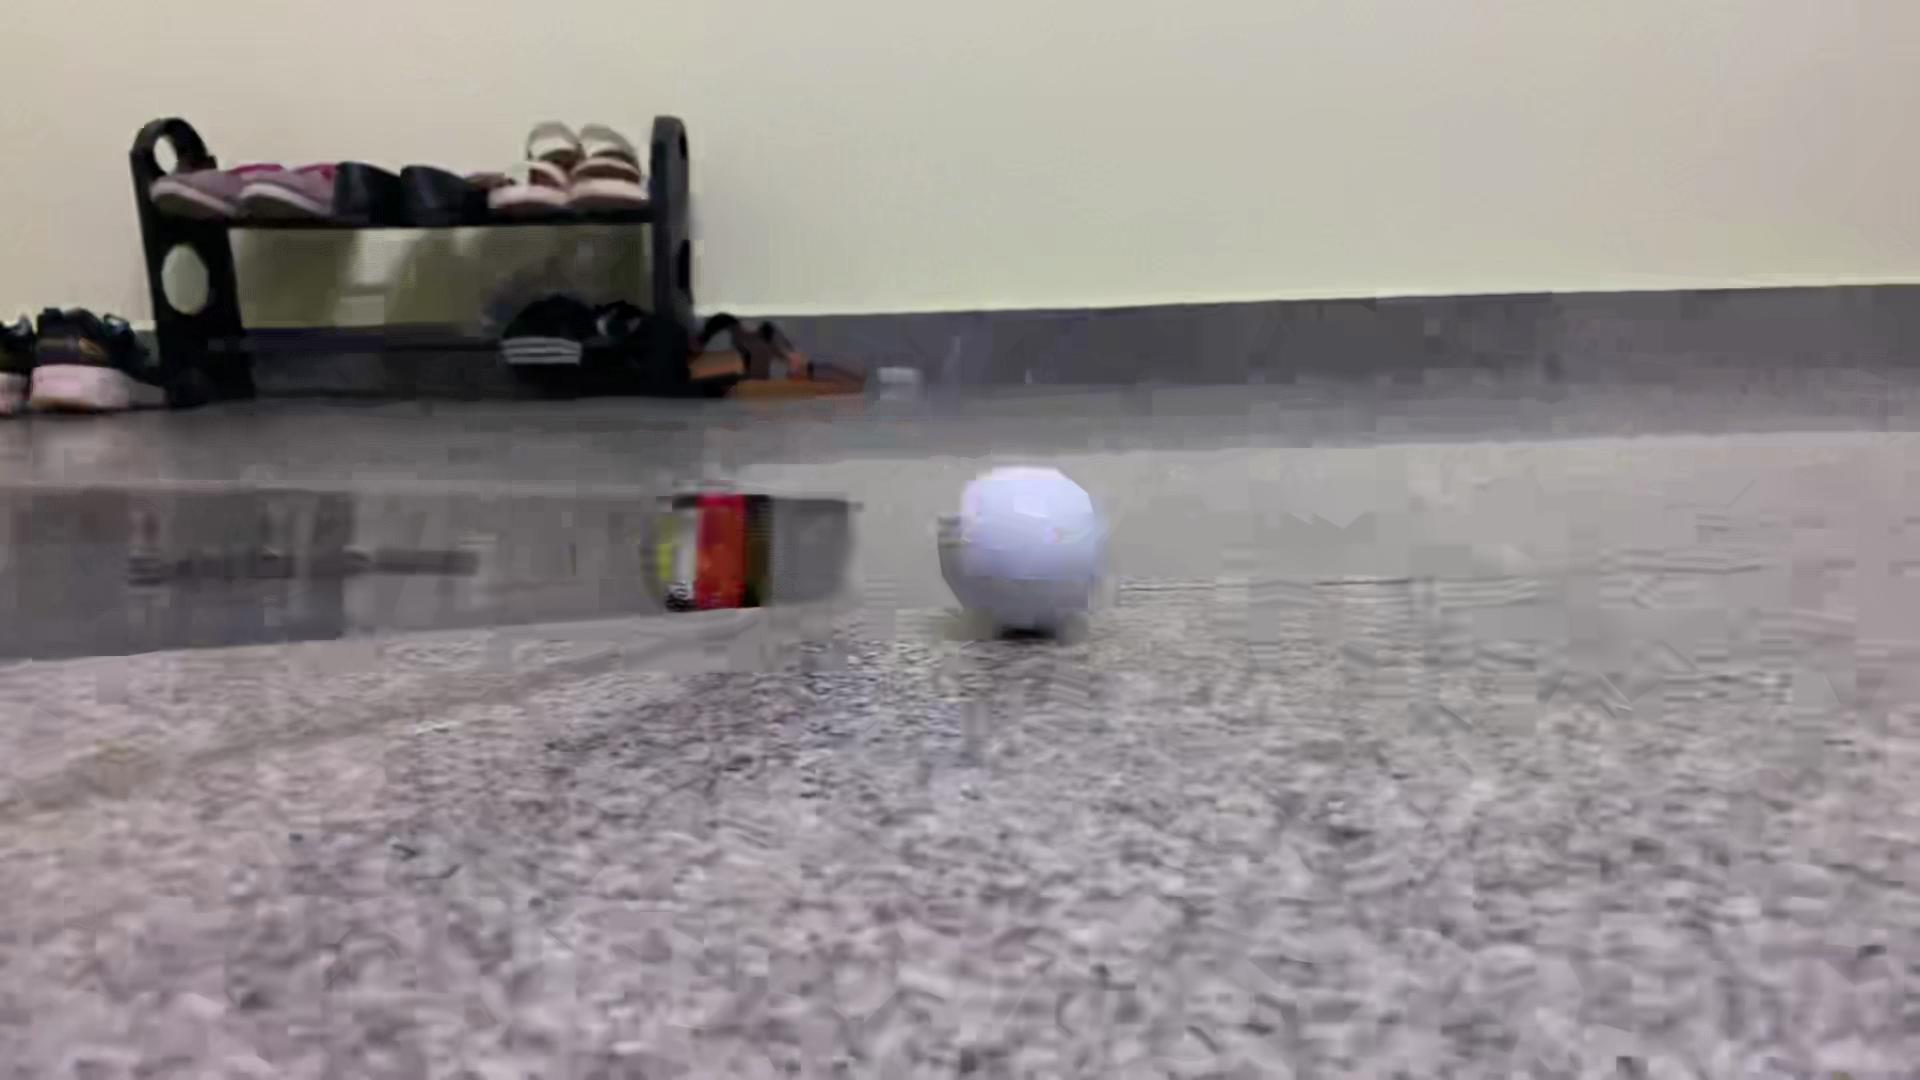golfball: (938, 468, 1106, 634)
